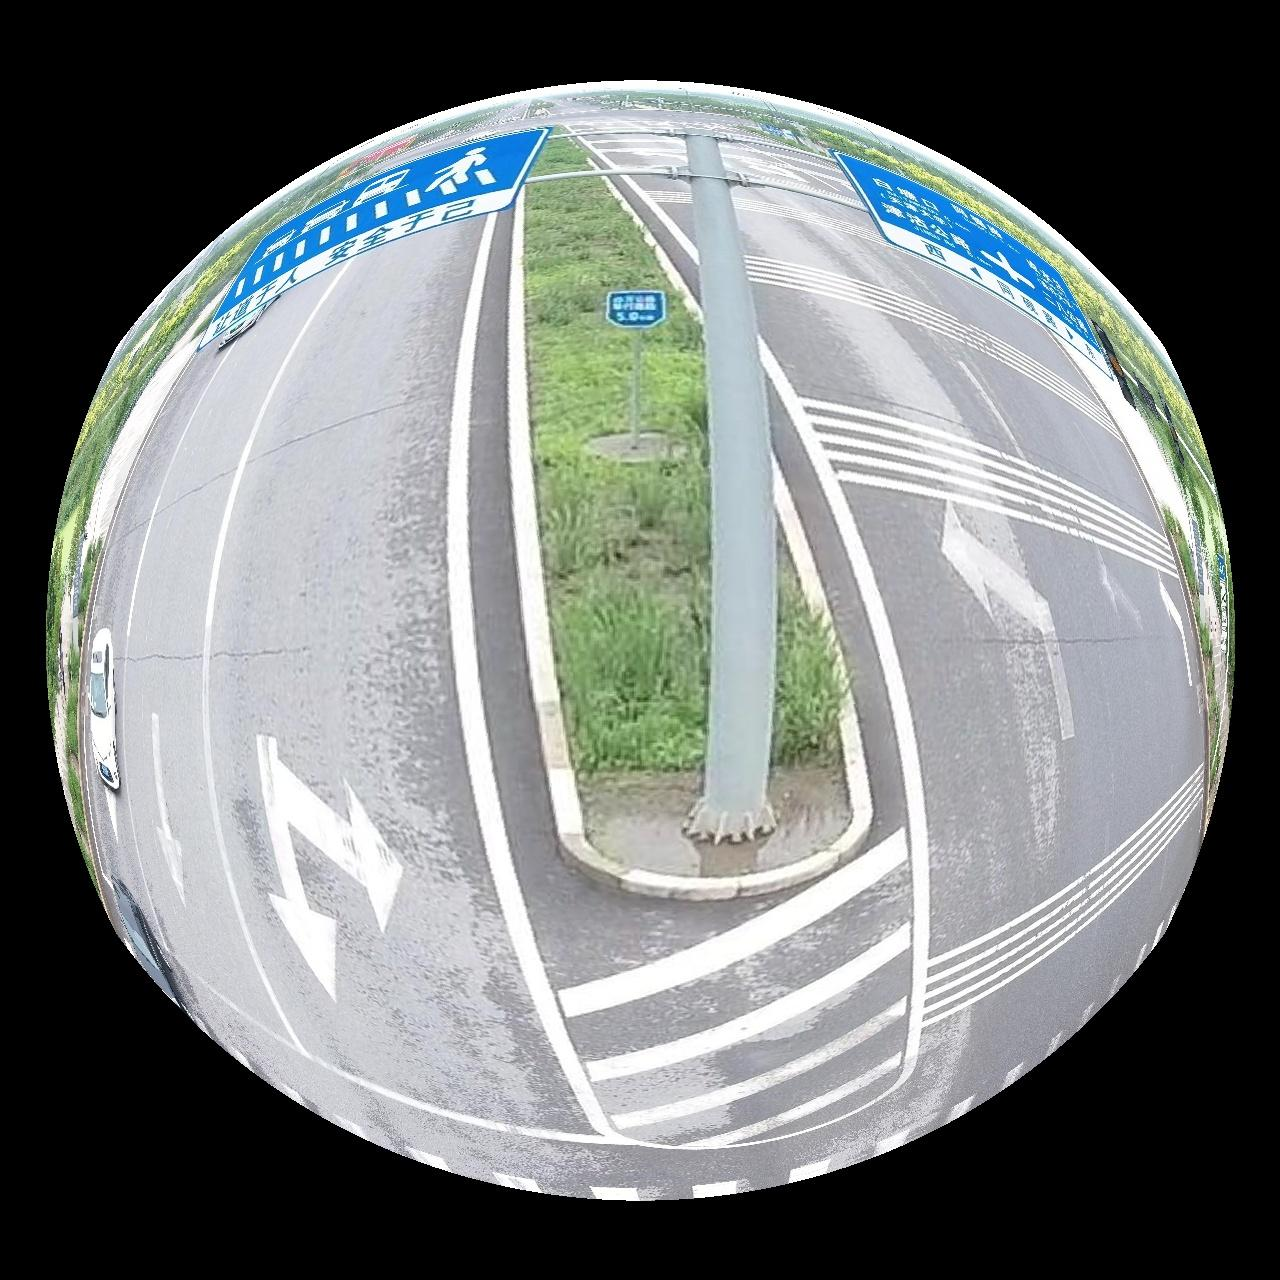cars: (107, 879, 177, 1005), (84, 629, 120, 790), (216, 306, 264, 352)
